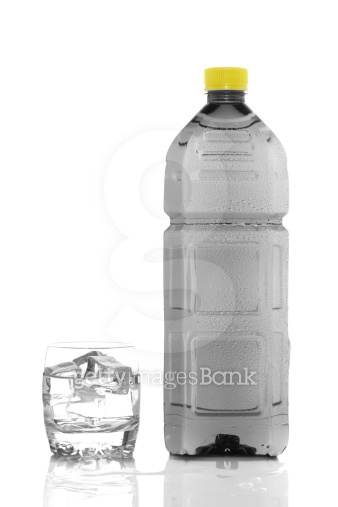glass of water: (165, 57, 296, 460), (37, 351, 150, 464)
